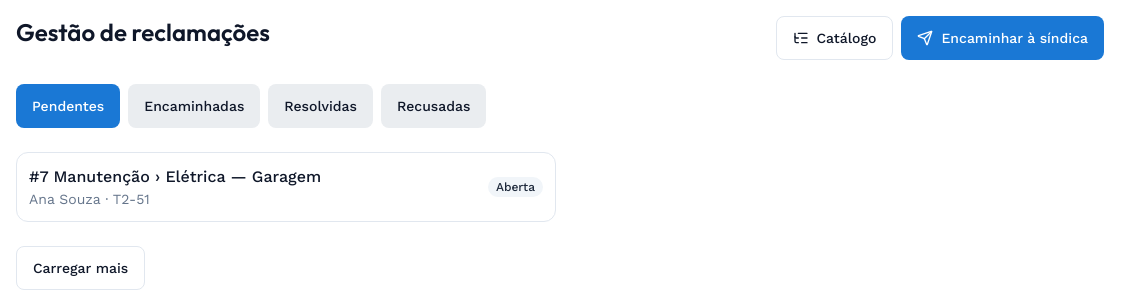
ComplaintsAdminPage › "Carregar mais" acrescenta a próxima página e some no fim
Expected: the text "Ana Souza · T2-51" is shown, [29,191,150,207]
Click the button "Carregar mais": (81, 268) [16,246,145,290]
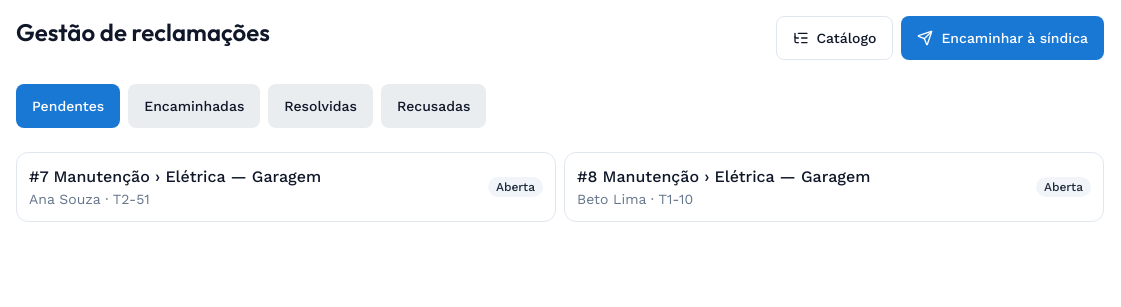
Expected: the text "Ana Souza · T2-51" is shown, [29,191,150,207]
Now the text "Beto Lima · T1-10" is shown, box [577,191,693,207]
Now the button "Carregar mais" is gone
